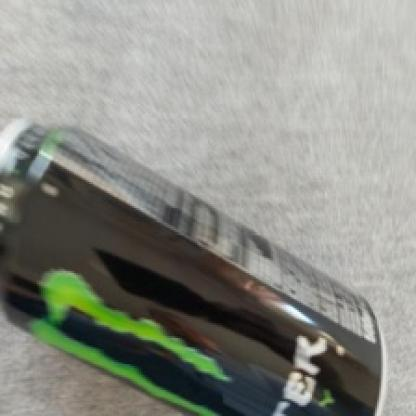Can: (0, 110, 388, 416)
